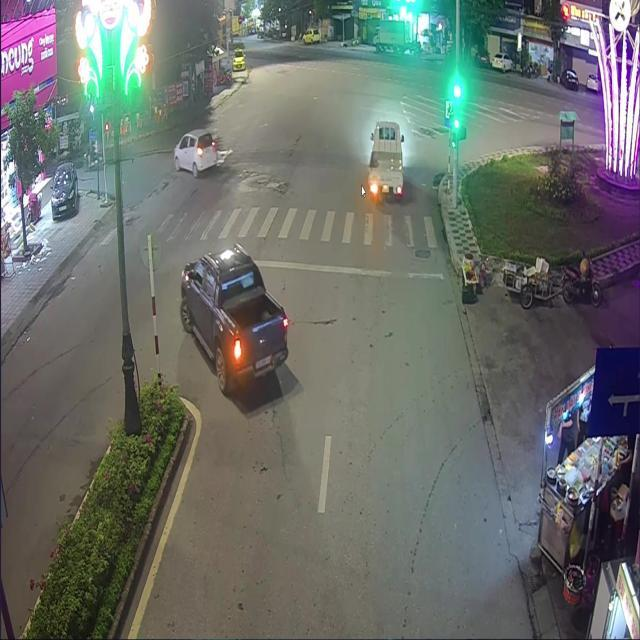car: (179, 243, 288, 394), (366, 120, 402, 200)
green_light: (452, 77, 461, 130)
stop_line: (228, 256, 440, 277)
